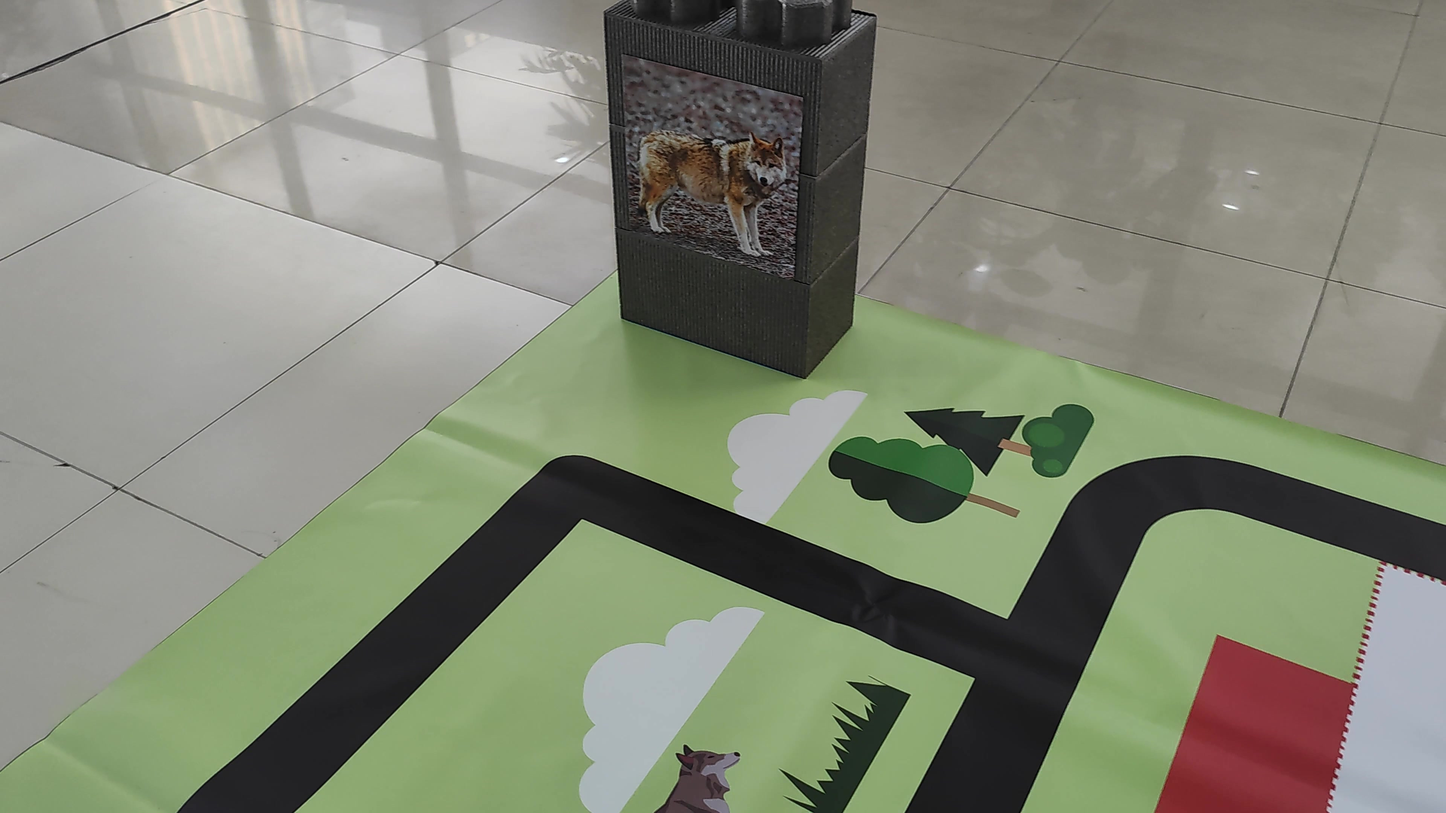wolf: (619, 54, 800, 253)
